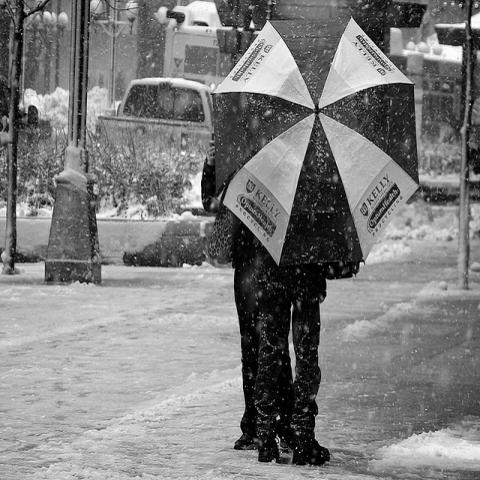bus: (160, 1, 231, 91)
car: (386, 22, 465, 85)
truck: (95, 77, 216, 175)
